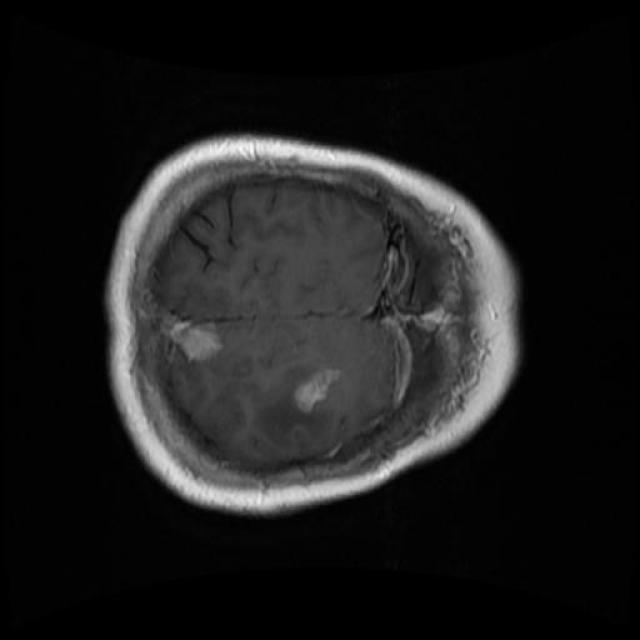Glioma: (160, 313, 221, 361), (294, 369, 340, 413)
